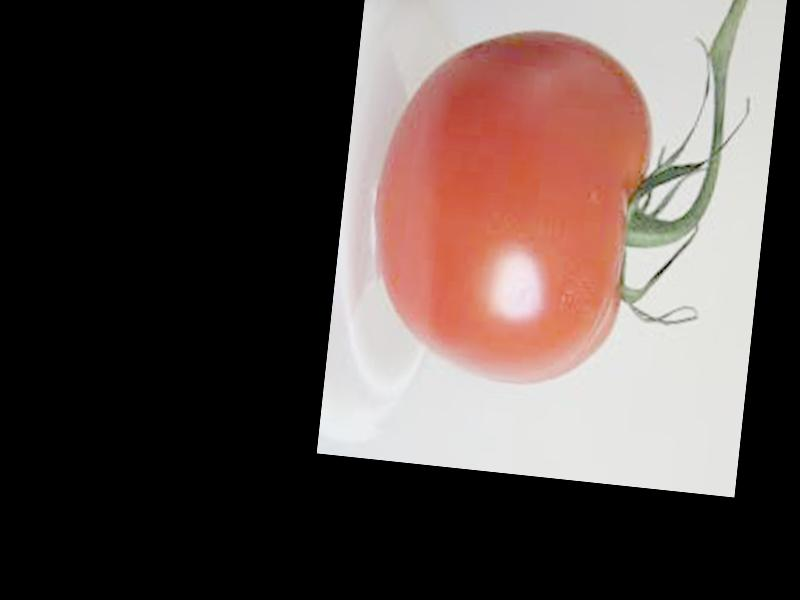Tomato: (360, 14, 662, 394)
